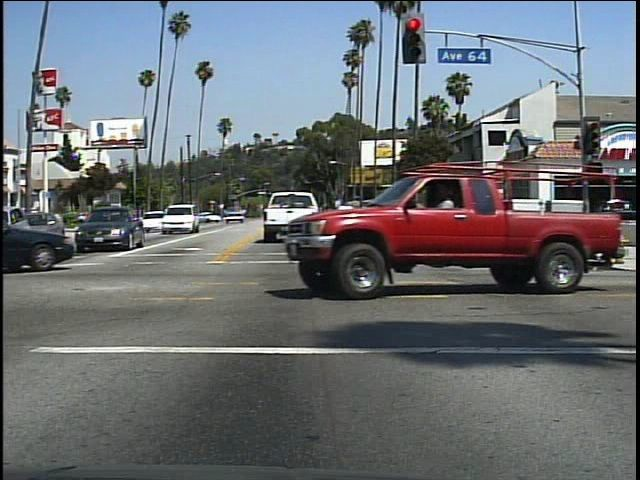person: (426, 178, 466, 288), (475, 200, 501, 236)
